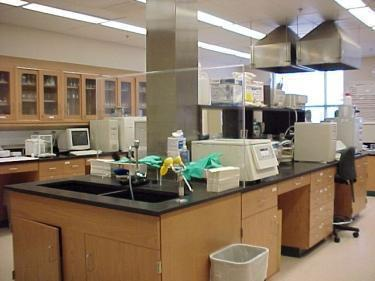Bote de Basura: (209, 240, 269, 275)
